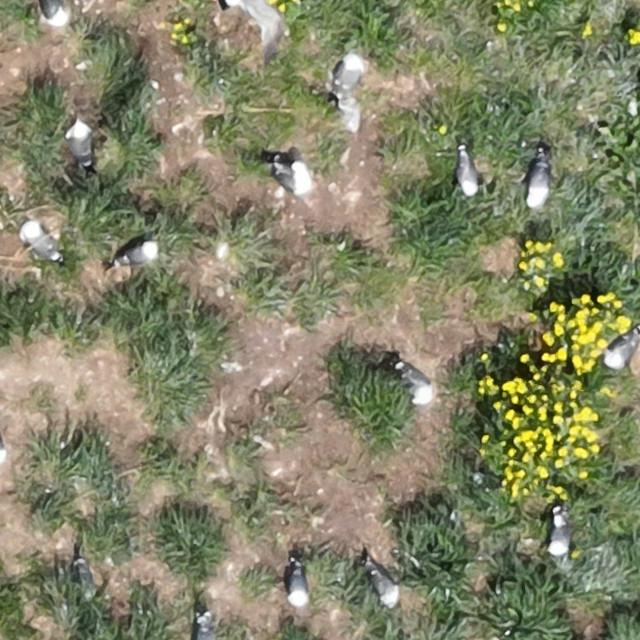umineko: (21, 219, 66, 266), (276, 157, 314, 200), (605, 334, 637, 366), (401, 368, 432, 401), (371, 571, 398, 606), (530, 164, 550, 206), (337, 57, 361, 91), (69, 124, 89, 163), (459, 156, 479, 194), (119, 242, 155, 263), (550, 514, 567, 555), (289, 568, 308, 604), (78, 562, 95, 595), (195, 623, 215, 639)
